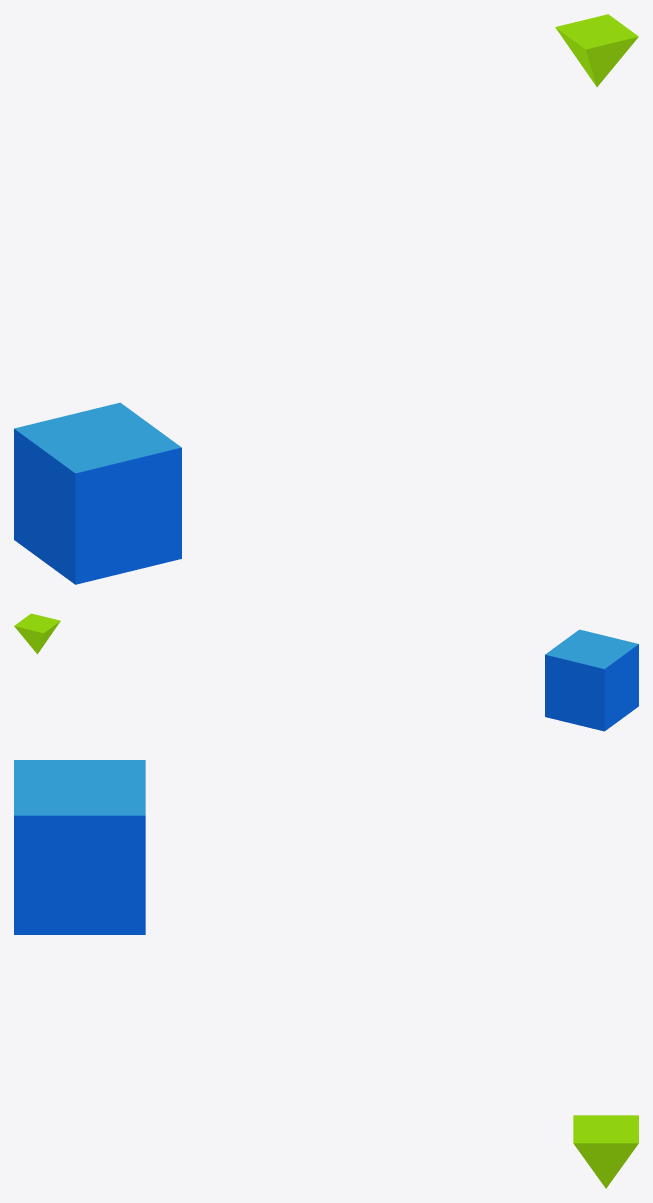
File: paths.glb
3 views of the same model, one above another, from view 1: azimuth 30°, elevation 25°; view 2: azimuth 150°, elevation 25°; view 3: azimuth 270°, elevation 25° (orthographic). The views are drawn at different scales.
Parts seen in each view (by area): view 1: Cube, PointMarker; view 2: Cube, PointMarker; view 3: Cube, PointMarker.
Boxes of the visible parts, bbox=[...] form: Cube: bbox=[14, 402, 181, 584]; PointMarker: bbox=[555, 14, 638, 86]; Cube: bbox=[545, 629, 638, 731]; PointMarker: bbox=[14, 613, 60, 654]; Cube: bbox=[14, 760, 145, 934]; PointMarker: bbox=[573, 1115, 638, 1188].
Size of what is drawn, in the model's own units: 7.75 by 1.4 by 4.75.
